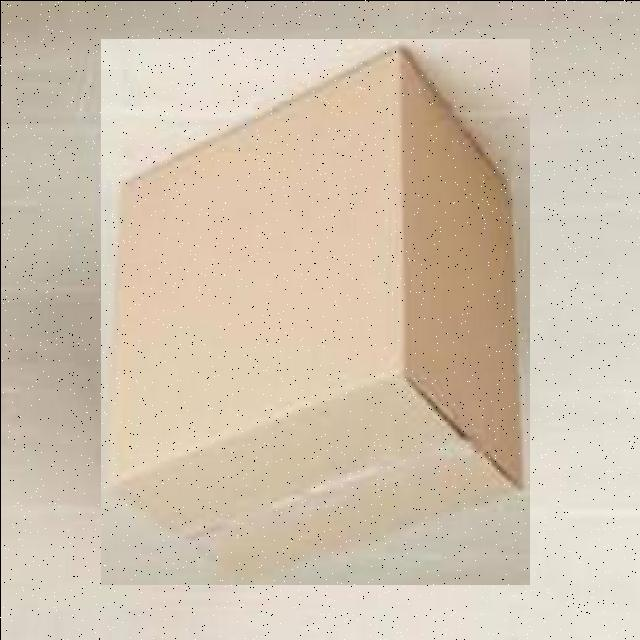normal: (100, 38, 529, 584)
